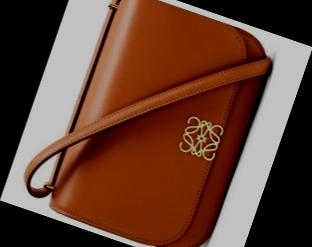LOEWE: (173, 109, 230, 164)
